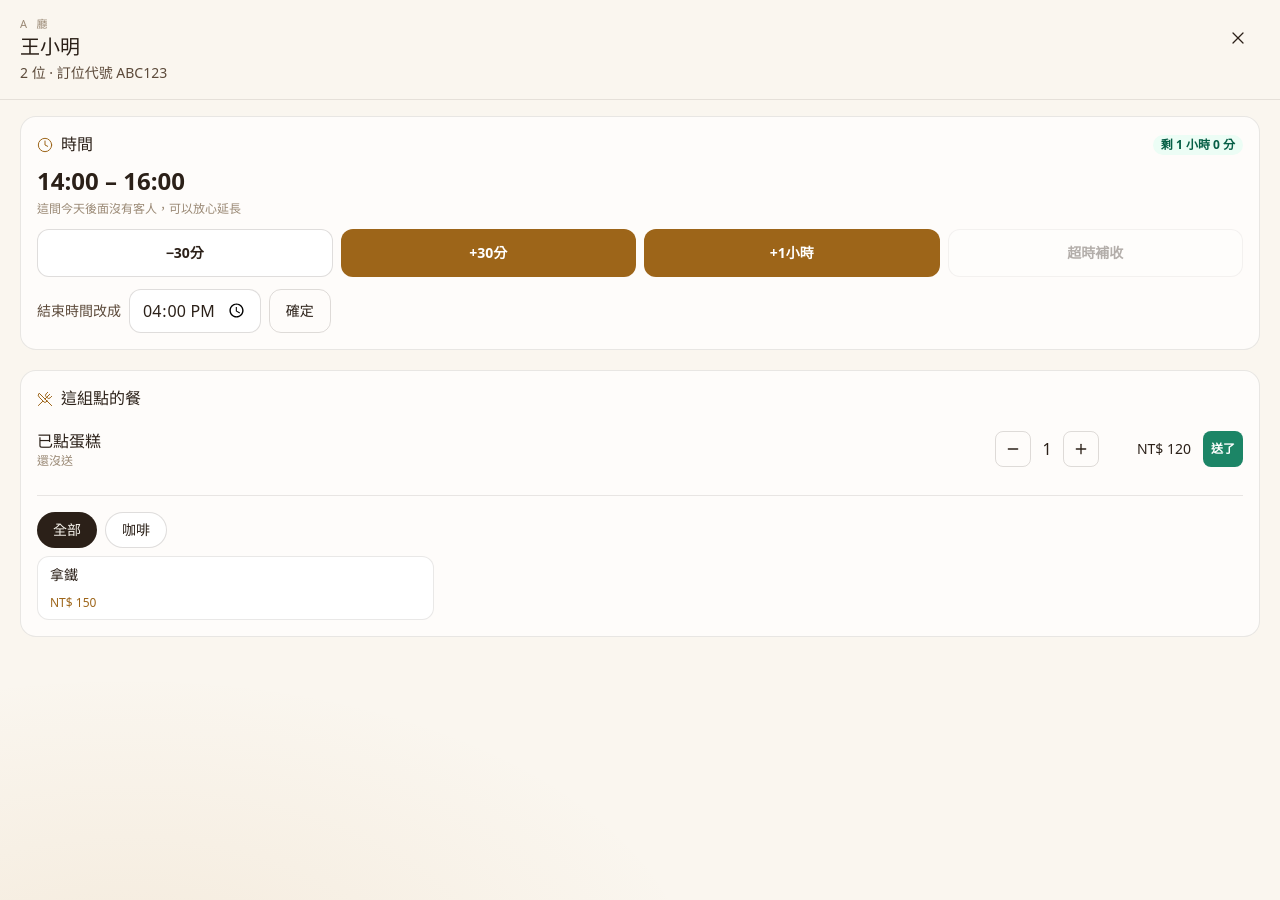
Test: RoomCheckoutPanel add submission › does not replace known items when reload has missing
Expected: the text "已點蛋糕" is shown, [37,430,101,452]
Click the button "拿鐵 NT$ 150".
click(73, 602)  # box [37,556,434,620]
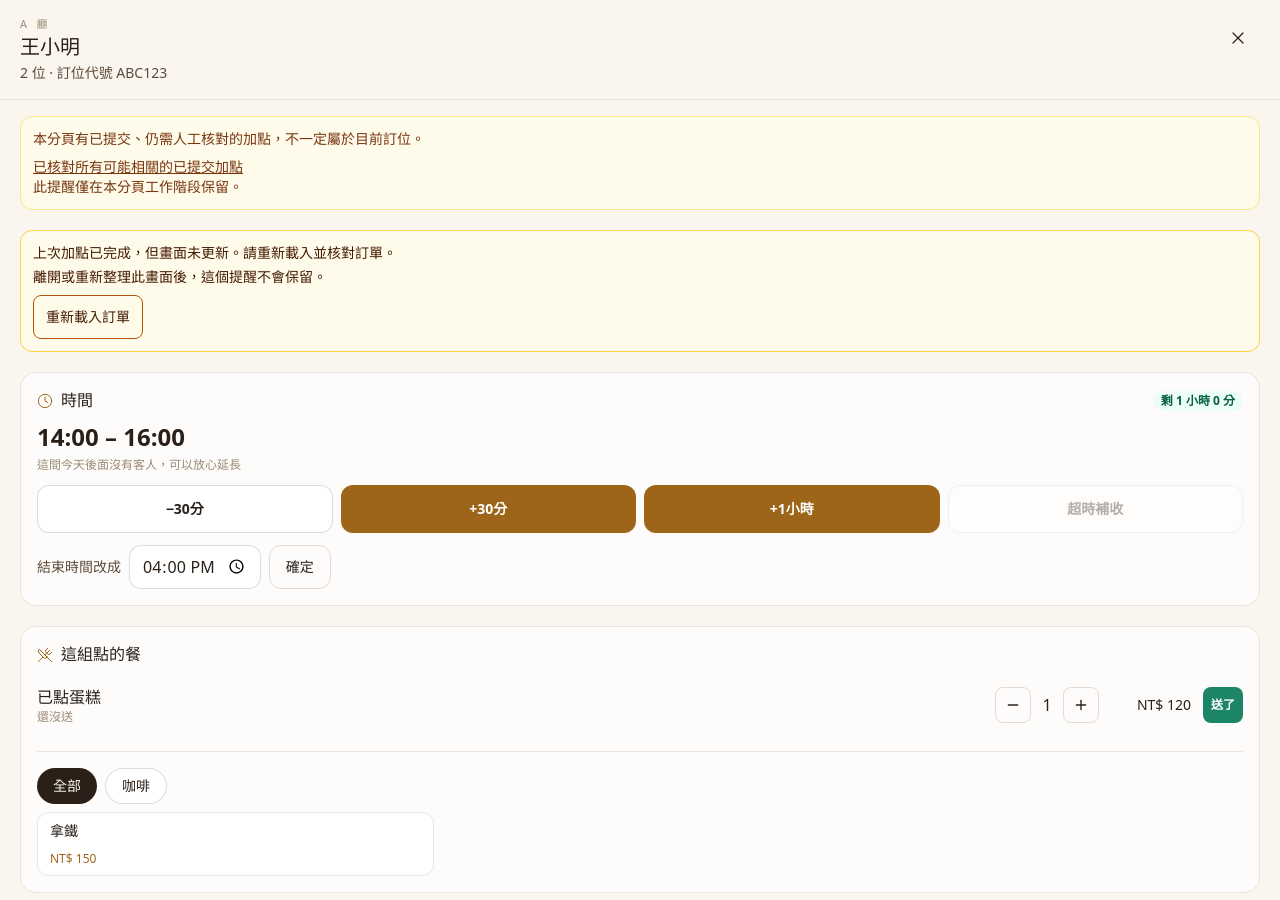
Expected: the text "已點蛋糕" is shown, [37,686,101,708]
Result: the text "上次加點已完成，但畫面未更新。請重新載入並核對訂單。" is shown at [33,242,397,262]
